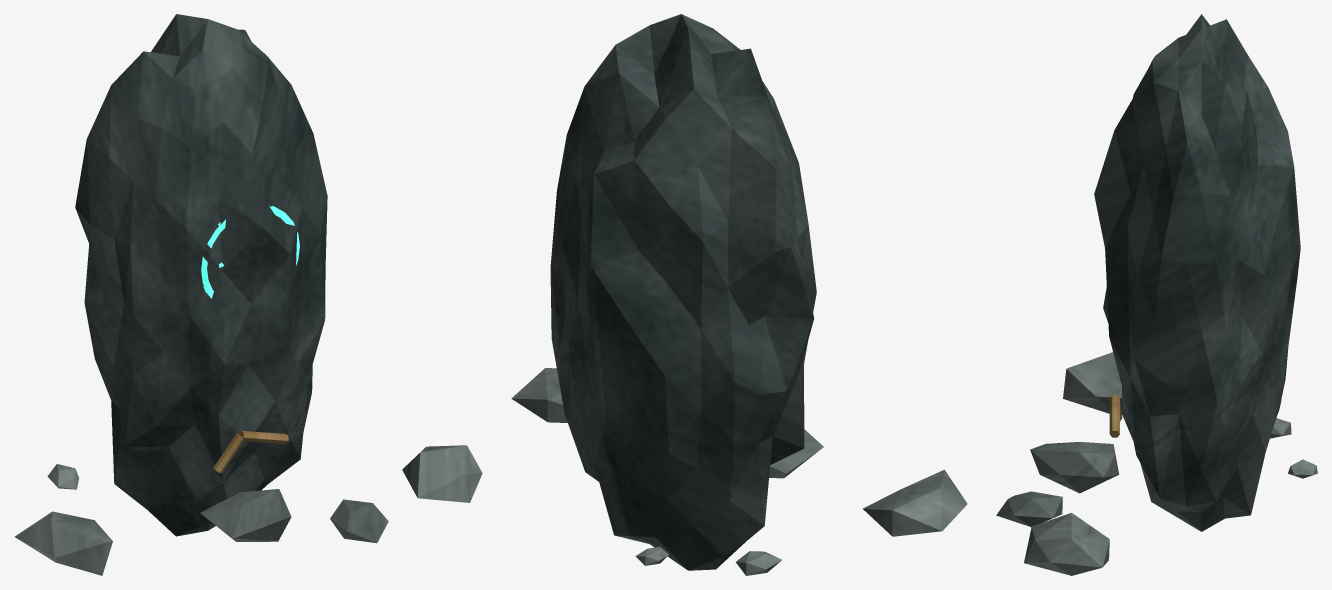
File: 0652_waystone_02.glb
The picture shows the model from 3 angles, left to right: view 1: azimuth 30°, elevation 25°; view 2: azimuth 150°, elevation 25°; view 3: azimuth 270°, elevation 25°; orthographic projection. The views are drawn at different scales.
Visible parts, largest first — view 1: stone_dark, stone, brass, glow; view 2: stone_dark, stone; view 3: stone_dark, stone, brass.
Part boxes in pixels (x1=…): stone_dark: x1=75, y1=14, x2=327, y2=536; stone: x1=14, y1=445, x2=482, y2=575; brass: x1=213, y1=430, x2=288, y2=473; glow: x1=201, y1=206, x2=299, y2=298; stone_dark: x1=550, y1=14, x2=816, y2=570; stone: x1=511, y1=367, x2=967, y2=575; stone_dark: x1=1094, y1=14, x2=1300, y2=531; stone: x1=996, y1=352, x2=1317, y2=575; brass: x1=1109, y1=395, x2=1122, y2=437.
Bounding box in the file's own units: 1.9 × 2.18 × 1.26.
Materials: 4 (4 with a texture image).
